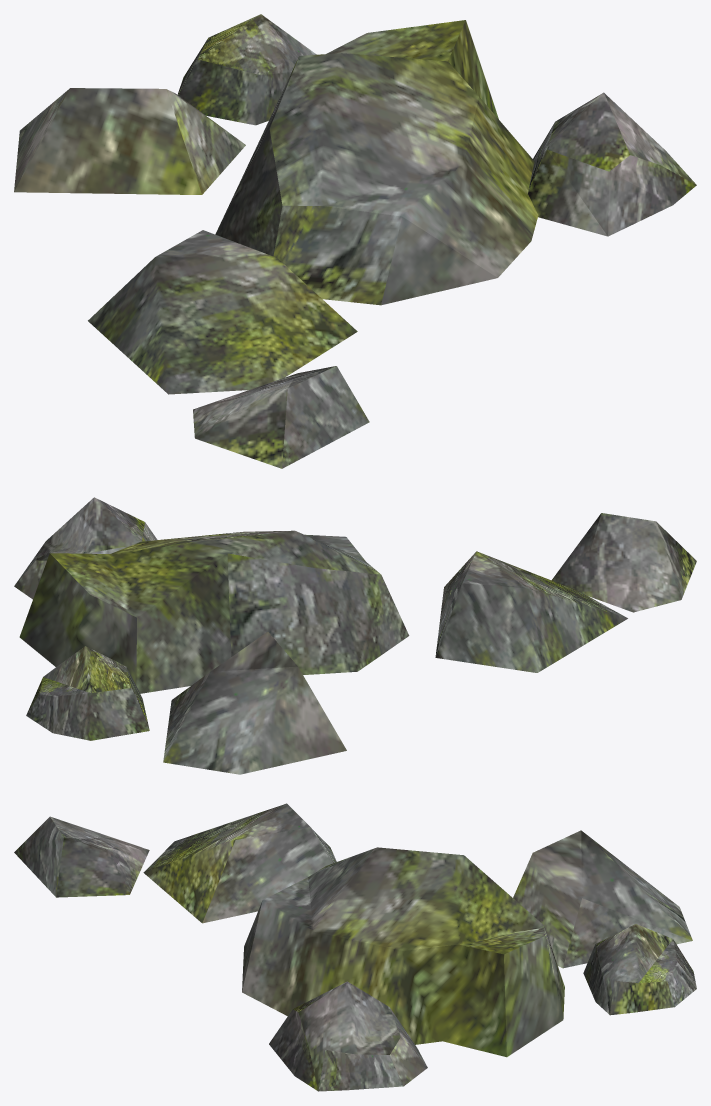
Rendered from S_Rock_Green024.FBX.
The picture shows the model from 3 angles, top to bottom: view 1: azimuth 30°, elevation 25°; view 2: azimuth 150°, elevation 25°; view 3: azimuth 270°, elevation 25°; orthographic projection. The views are drawn at different scales.
Visible parts, largest first — view 1: S_Rock_Green024; view 2: S_Rock_Green024; view 3: S_Rock_Green024.
Part boxes in pixels (x1,y1,x2,y2): S_Rock_Green024: (14,14,696,468); S_Rock_Green024: (14,497,696,774); S_Rock_Green024: (14,803,696,1091).
Size of the model in its own units: 240 by 273 by 50.36.
